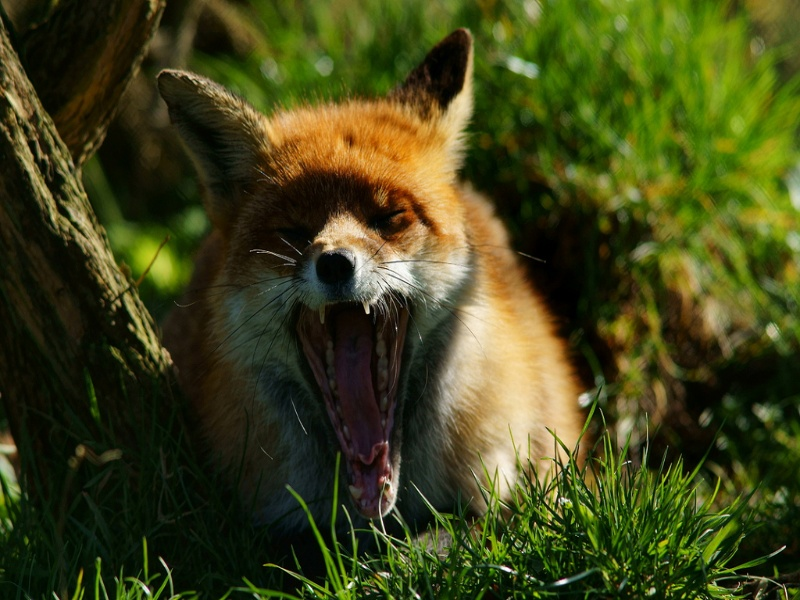fox: (141, 24, 599, 567)
